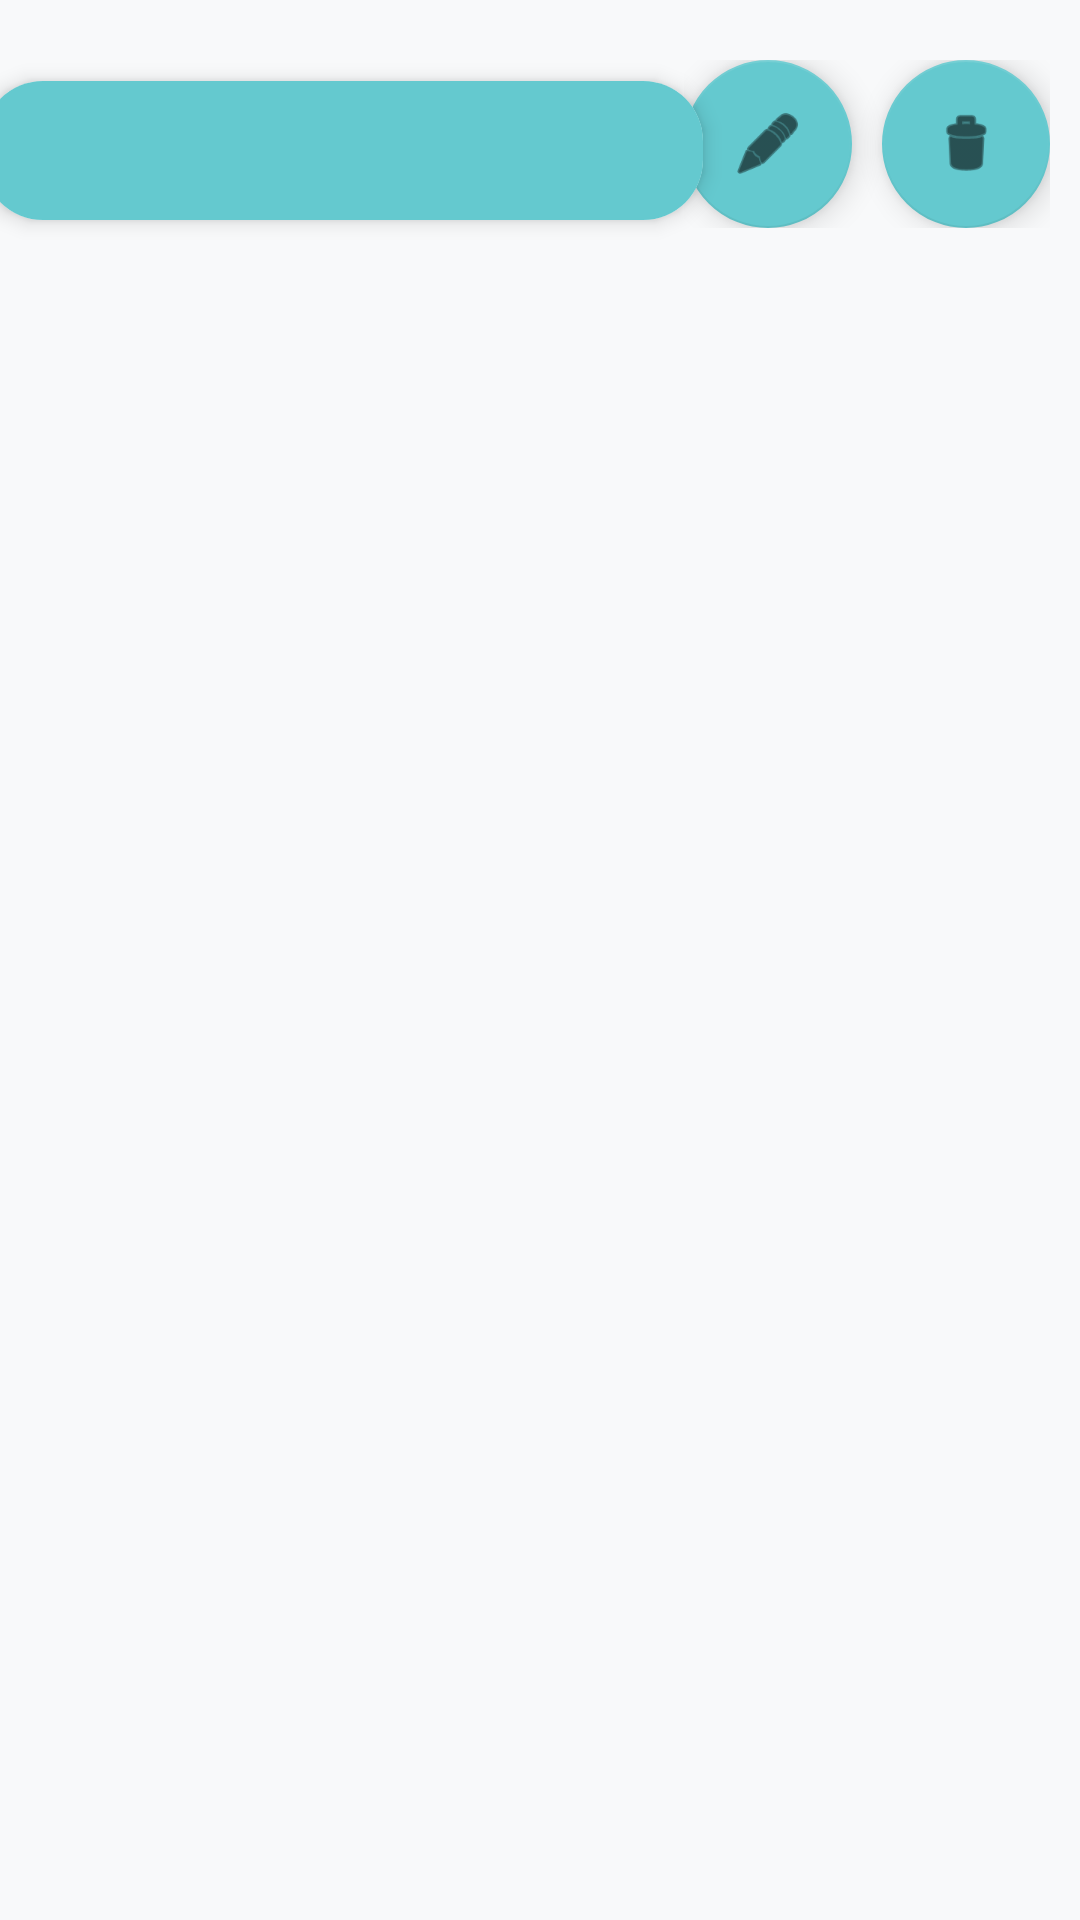

Icon bounding boxes for this 1080×1920 phone screenshot, format (x1, y1, x2, y2):
delete: (882, 60, 1050, 228)
edit: (684, 60, 852, 228)
